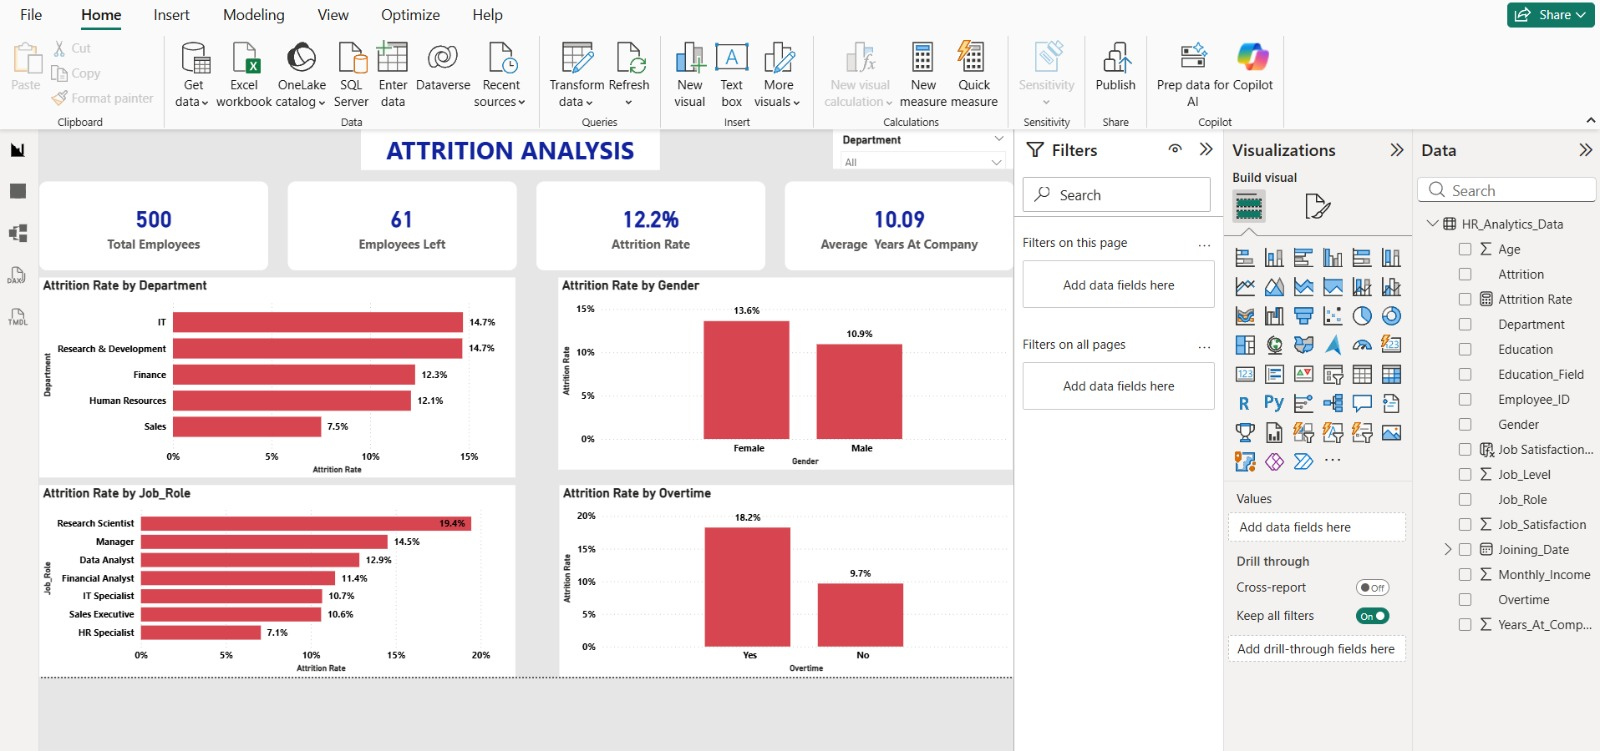

What the dashboard file says about the page in this screenshot:
{"tool":"powerbi","page":{"name":"Page 1","canvas":[1280,720],"ordinal":0},"visuals":[{"type":"card","fields":{"Values":["CountNonNull(HR_Analytics_Data.Employee_ID)"]},"box":[0,56.3,279.9,123.5],"z":0},{"type":"card","fields":{"Values":["Avg(HR_Analytics_Data.Monthly_Income)"]},"box":[319.7,56.3,279.9,123.5],"z":1000},{"type":"card","fields":{"Values":["HR_Analytics_Data.Attrition Rate"]},"box":[639.5,56.3,279.9,123.5],"z":2000},{"type":"card","fields":{"Values":["Avg(HR_Analytics_Data.Years_At_Company)"]},"box":[959.2,59,279.9,120.8],"z":3000},{"type":"donutChart","title":"Employees by Department","fields":{"Category":["HR_Analytics_Data.Department"],"Y":["CountNonNull(HR_Analytics_Data.Employee_ID)"]},"box":[0,190.7,459.7,271.7],"z":4000},{"type":"barChart","title":" Attrition Rate by Department","fields":{"Category":["HR_Analytics_Data.Department"],"Y":["HR_Analytics_Data.Attrition Rate"]},"box":[469.3,190.7,459.7,271.7],"z":5000},{"type":"donutChart","title":"Employees by Gender","fields":{"Y":["CountNonNull(HR_Analytics_Data.Employee_ID)"],"Category":["HR_Analytics_Data.Gender"]},"box":[940,190.7,340.3,271.7],"z":6000},{"type":"columnChart","fields":{"Category":["HR_Analytics_Data.Gender"],"Y":["HR_Analytics_Data.Attrition Rate"]},"box":[0,473.4,406.2,247],"z":7000},{"type":"clusteredColumnChart","title":"Employees by Job Satisfaction","fields":{"Y":["CountNonNull(HR_Analytics_Data.Employee_ID)"],"Category":["HR_Analytics_Data.Job_Satisfaction"]},"box":[415.8,473.2,420.7,247],"z":8000},{"type":"clusteredBarChart","title":"Attrition Rate by Job Role","fields":{"Category":["HR_Analytics_Data.Job_Role"],"Y":["HR_Analytics_Data.Attrition Rate"]},"box":[846.2,473.2,434.1,247],"z":9000},{"type":"textbox","box":[415.8,0,466.6,46.7],"z":10000},{"type":"slicer","title":"Department","fields":{"Values":["HR_Analytics_Data.Department"]},"box":[959.2,0,279.9,56.3],"z":10001}]}

Visuals, with their boxes on the page's 1280x720 design canvas (x1, y1, x2, y2). These are canvas units, not pixel positions in the 1600x751 screenshot, which may show the page scaled, cropped or inside an application window:
card - CountNonNull(HR_Analytics_Data.Employee_ID): 0:56:280:180
card - Avg(HR_Analytics_Data.Monthly_Income): 320:56:600:180
card - HR_Analytics_Data.Attrition Rate: 640:56:919:180
card - Avg(HR_Analytics_Data.Years_At_Company): 959:59:1239:180
"Employees by Department" donutChart: 0:191:460:462
" Attrition Rate by Department" barChart: 469:191:929:462
"Employees by Gender" donutChart: 940:191:1280:462
columnChart - HR_Analytics_Data.Gender x HR_Analytics_Data.Attrition Rate: 0:473:406:720
"Employees by Job Satisfaction" clusteredColumnChart: 416:473:836:720
"Attrition Rate by Job Role" clusteredBarChart: 846:473:1280:720
textbox: 416:0:882:47
"Department" slicer: 959:0:1239:56
